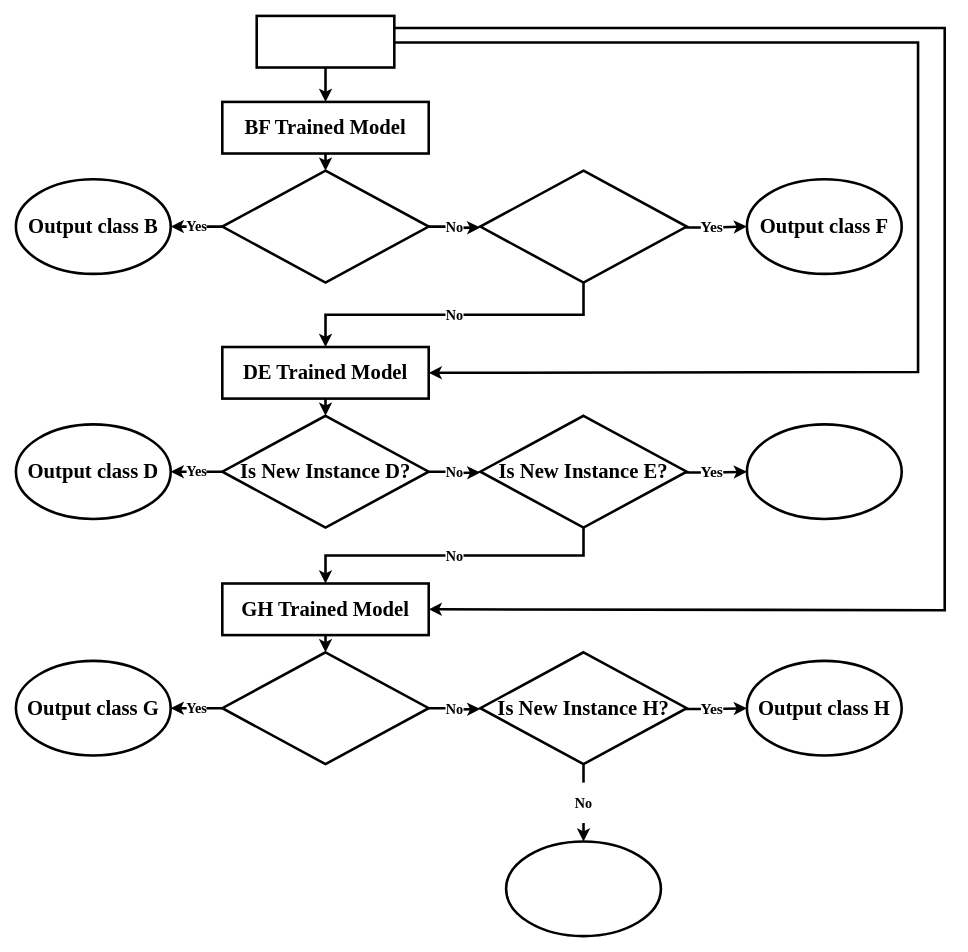
Some shapes in this 968 by 952 pixel diagram are drawn without their labels. Here are the shapes that lost their labels. From the top down, the centre of each, then its label:
(x=325, y=41): New Instance
(x=325, y=226): Is New Instance B?
(x=583, y=226): Is New Instance F?
(x=824, y=471): Output class E
(x=325, y=708): Is New Instance G?
(x=583, y=888): Output class N
